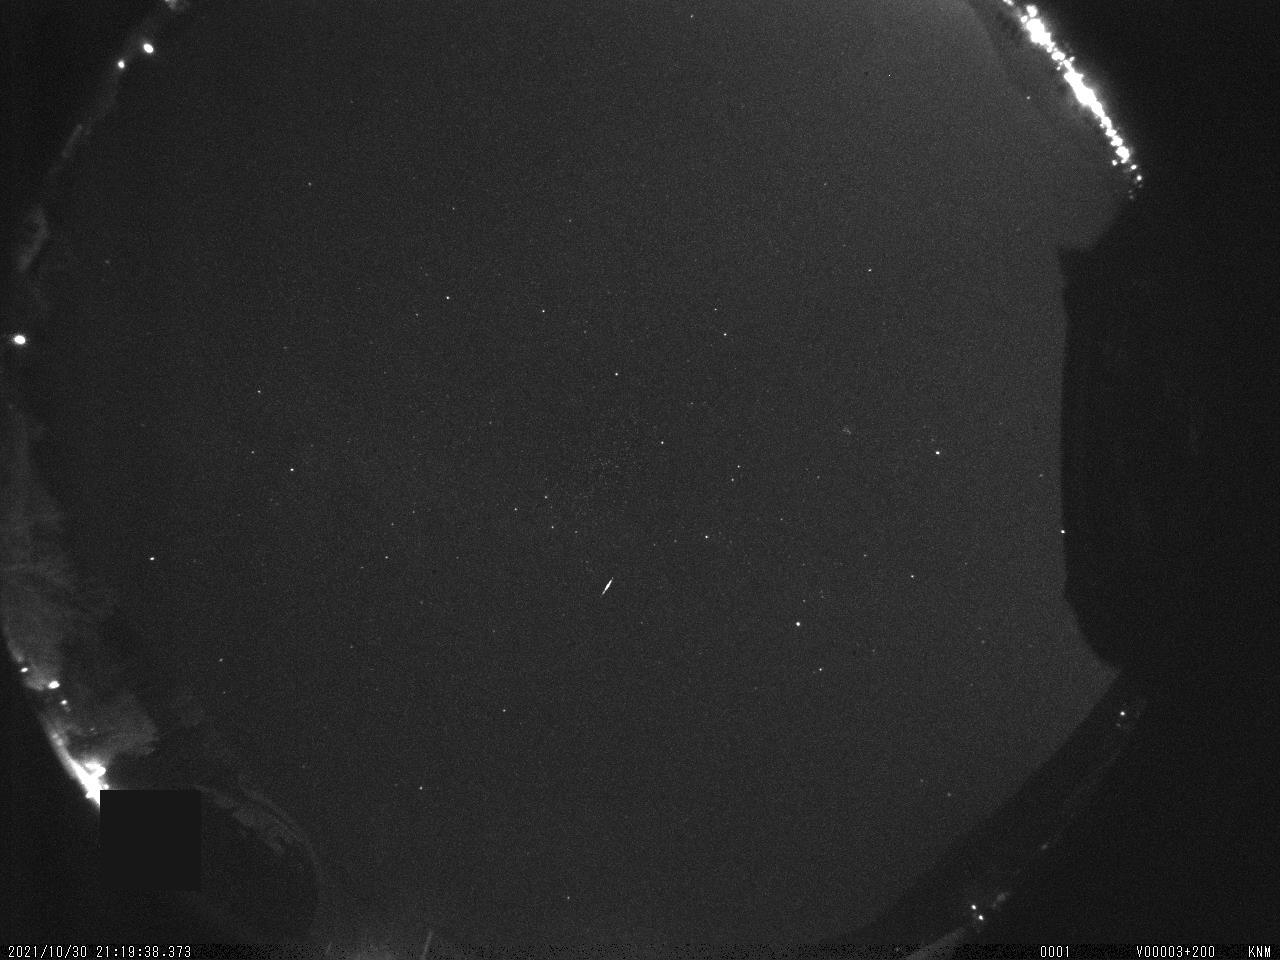meteor: (590, 561, 637, 605)
